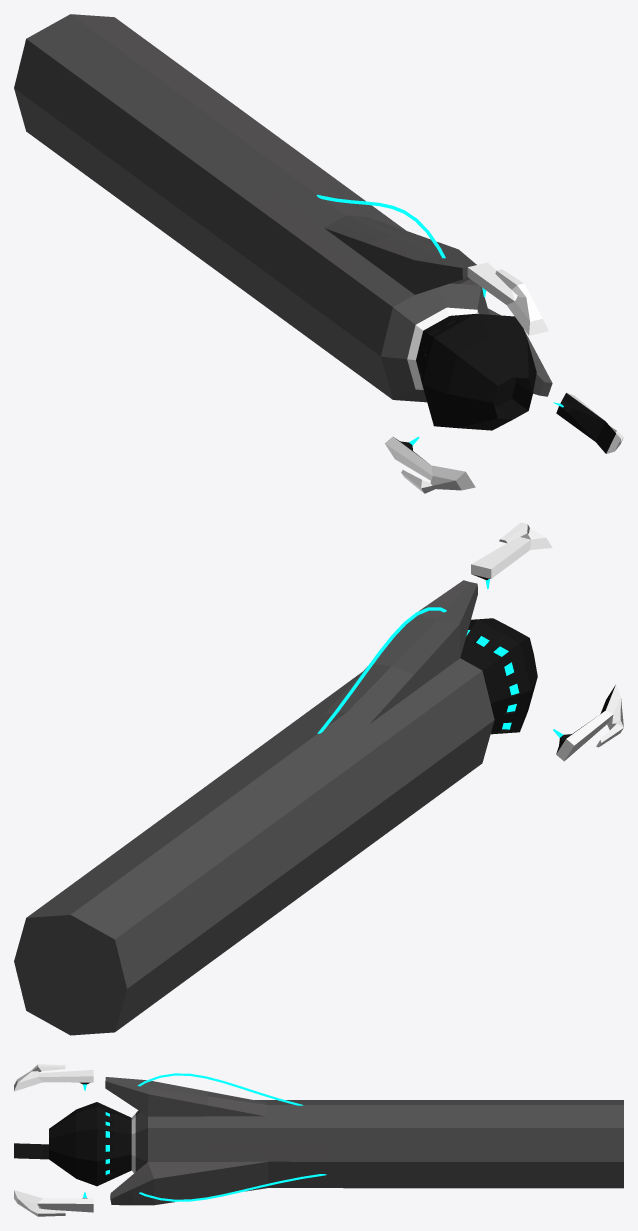
Rendered from TasergunModel.fbx.
The picture shows the model from 3 angles, top to bottom: view 1: azimuth 30°, elevation 25°; view 2: azimuth 150°, elevation 25°; view 3: azimuth 270°, elevation 25°; orthographic projection. The views are drawn at different scales.
Visible parts, largest first — view 1: Cube, Cube.002, Cube.003, Cube.004; view 2: Cube, Cube.002, Cube.003, BezierCurve; view 3: Cube, Cube.004, Cube.002, Cube.003, BezierCurve.001, BezierCurve.
Part boxes in pixels (<box>): Cube: <box>14,14,552,430</box>; Cube.002: <box>467,262,548,335</box>; Cube.003: <box>385,436,475,493</box>; Cube.004: <box>553,393,623,453</box>; Cube: <box>14,580,537,1035</box>; Cube.002: <box>471,522,552,589</box>; Cube.003: <box>553,684,623,761</box>; BezierCurve: <box>317,607,446,733</box>; Cube: <box>49,1077,623,1205</box>; Cube.004: <box>14,1190,93,1216</box>; Cube.002: <box>14,1064,93,1091</box>; Cube.003: <box>14,1143,48,1159</box>; BezierCurve.001: <box>139,1174,326,1201</box>; BezierCurve: <box>137,1073,302,1105</box>.
Size of the model in its own units: 135 by 119 by 543.
